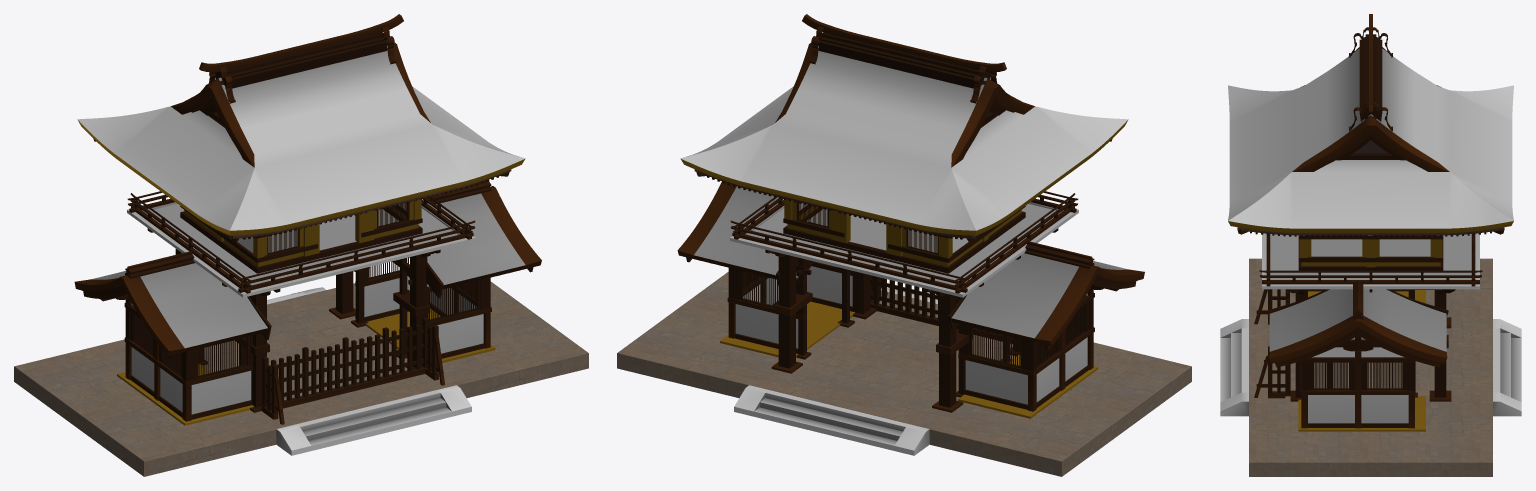
File: Gate.fbx
The picture shows the model from 3 angles, left to right: view 1: azimuth 30°, elevation 25°; view 2: azimuth 150°, elevation 25°; view 3: azimuth 270°, elevation 25°; orthographic projection. The views are drawn at different scales.
Parts seen in each view (by area): view 1: Gate_MSH; view 2: Gate_MSH; view 3: Gate_MSH.
Part boxes in pixels (x1=…): Gate_MSH: x1=14, y1=14, x2=588, y2=476; Gate_MSH: x1=617, y1=14, x2=1191, y2=476; Gate_MSH: x1=1220, y1=14, x2=1521, y2=476.
Size of the model in its own units: 1509 by 1090 by 944.
